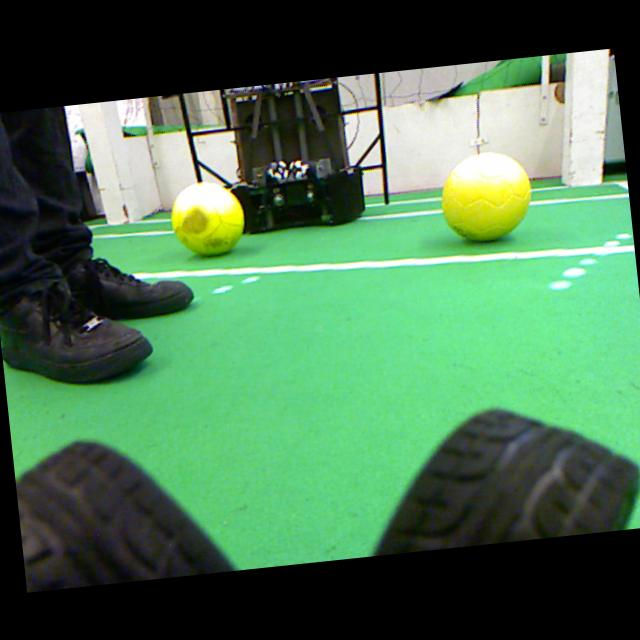ball: (441, 151, 531, 241), (172, 183, 243, 257)
goal: (77, 102, 128, 225), (570, 48, 610, 186)
robot: (223, 77, 365, 235)
